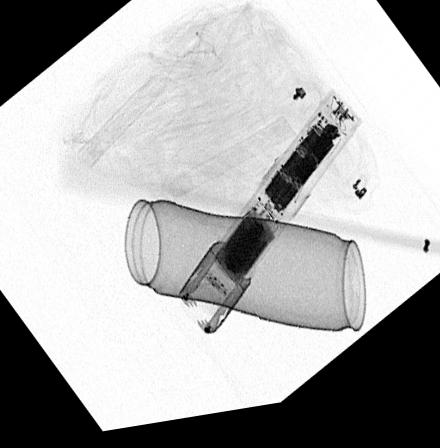Baton: (175, 97, 364, 339)
